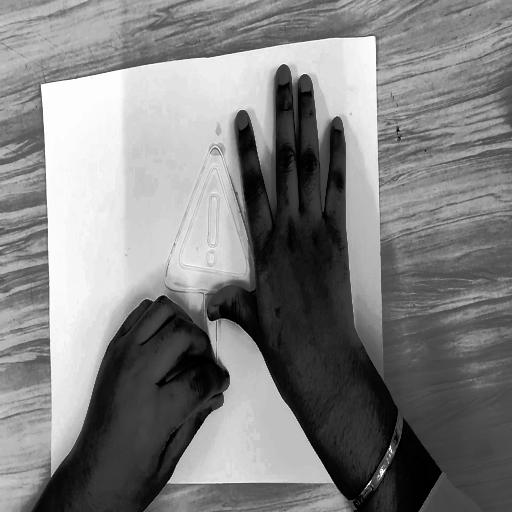bottom_left: (49, 488, 55, 498)
bottom_right: (378, 467, 388, 484)
signboard: (153, 132, 275, 425)
top_left: (38, 82, 45, 93)
top_right: (370, 31, 378, 44)
